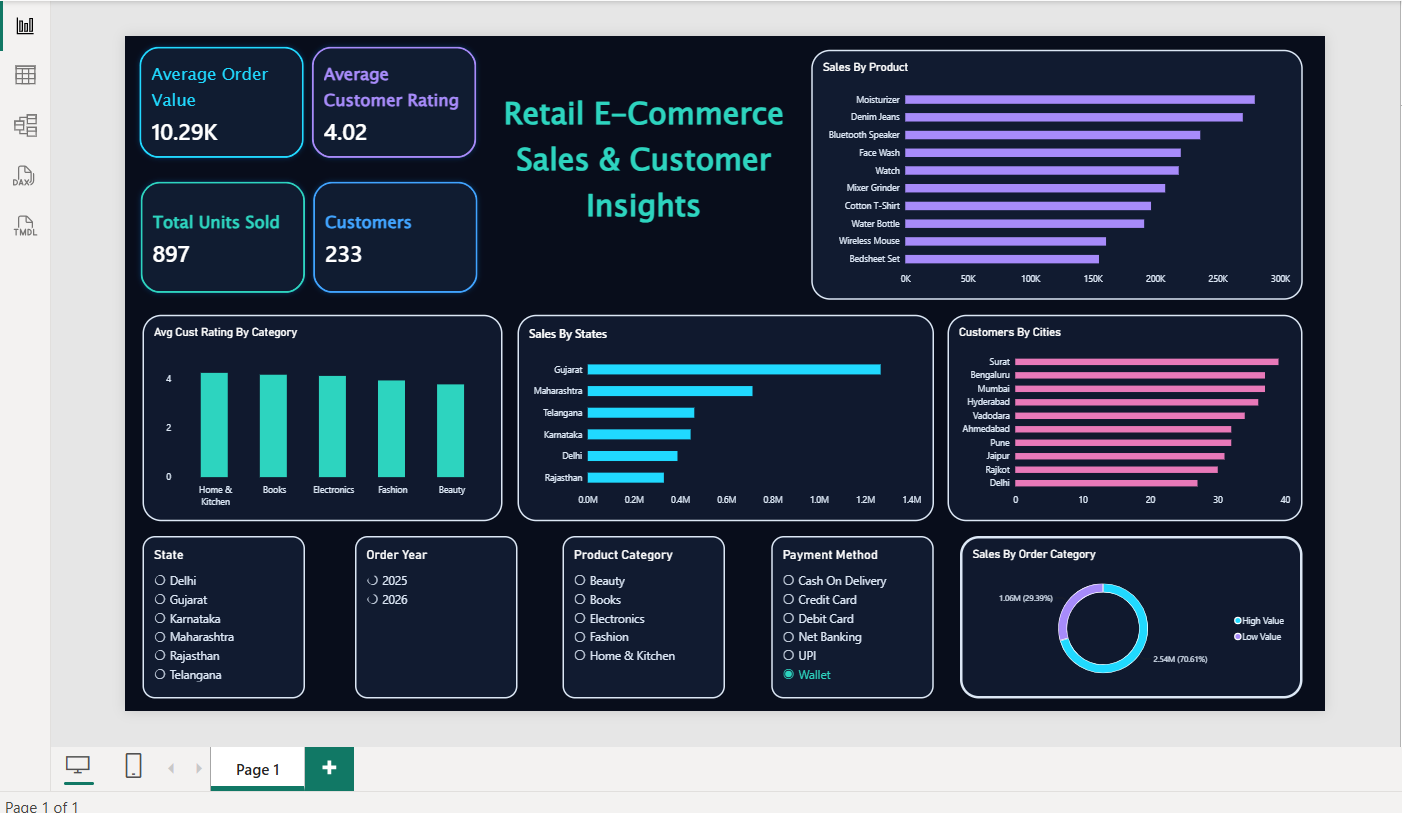

Layout of this report page (visuals, bound fields, positions):
{"tool":"powerbi","page":{"name":"Page 1","canvas":[1920,1080],"ordinal":0},"visuals":[{"type":"cardVisual","title":"Average Order VAlue","fields":{"Data":["RetailData.Average Order Value"]},"box":[12,6,285,200],"z":0},{"type":"cardVisual","fields":{"Data":["RetailData.Average Customer Rating"]},"box":[288,6,285,200],"z":1000},{"type":"cardVisual","fields":{"Data":["RetailData.Total Units Sold"]},"box":[14,222,285,200],"z":1001},{"type":"cardVisual","fields":{"Data":["RetailData.Customers"]},"box":[290,222,285,200],"z":1002},{"type":"clusteredBarChart","title":"Sales By States","fields":{"Category":["RetailData.State"],"Y":["Sum(RetailData.Sales_Amount)"]},"box":[628,446,666,330],"z":1004},{"type":"clusteredBarChart","title":"Sales By Product","fields":{"Category":["RetailData.Product"],"Y":["Sum(RetailData.Sales_Amount)"]},"box":[1098,22,786,400],"z":1005},{"type":"barChart","title":"Customers By Cities","fields":{"Category":["RetailData.City"],"Y":["Count(RetailData.Customer_ID)"]},"box":[1316,446,568,330],"z":1006},{"type":"clusteredColumnChart","title":"Avg Cust Rating By Category","fields":{"Category":["RetailData.Product_Category"],"Y":["Avg(RetailData.Customer_Rating)"]},"box":[28,446,576,330],"z":1007},{"type":"listSlicer","fields":{"Values":["RetailData.State"]},"box":[28,800,260,260],"z":1008},{"type":"listSlicer","fields":{"Values":["RetailData.Order Year"]},"box":[368,800,260,260],"z":1009},{"type":"listSlicer","title":"Product Category","fields":{"Values":["RetailData.Product_Category"]},"box":[700,800,260,260],"z":1010},{"type":"listSlicer","title":"Payment Method","fields":{"Values":["RetailData.Payment_Method"]},"box":[1034,800,260,260],"z":1011},{"type":"donutChart","title":"Sales By Order Category","fields":{"Category":["RetailData.Order Category"],"Y":["Sum(RetailData.Sales_Amount)"]},"box":[1336,800,548,260],"z":1012},{"type":"textbox","box":[576,88,508,234],"z":1013}]}

Visuals, with their boxes on the page's 1920x1080 design canvas (x1, y1, x2, y2). These are canvas units, not pixel positions in the 1402x813 screenshot, which may show the page scaled, cropped or inside an application window:
"Average Order VAlue" cardVisual: <bbox>12, 6, 297, 206</bbox>
cardVisual - RetailData.Average Customer Rating: <bbox>288, 6, 573, 206</bbox>
cardVisual - RetailData.Total Units Sold: <bbox>14, 222, 299, 422</bbox>
cardVisual - RetailData.Customers: <bbox>290, 222, 575, 422</bbox>
"Sales By States" clusteredBarChart: <bbox>628, 446, 1294, 776</bbox>
"Sales By Product" clusteredBarChart: <bbox>1098, 22, 1884, 422</bbox>
"Customers By Cities" barChart: <bbox>1316, 446, 1884, 776</bbox>
"Avg Cust Rating By Category" clusteredColumnChart: <bbox>28, 446, 604, 776</bbox>
listSlicer - RetailData.State: <bbox>28, 800, 288, 1060</bbox>
listSlicer - RetailData.Order Year: <bbox>368, 800, 628, 1060</bbox>
"Product Category" listSlicer: <bbox>700, 800, 960, 1060</bbox>
"Payment Method" listSlicer: <bbox>1034, 800, 1294, 1060</bbox>
"Sales By Order Category" donutChart: <bbox>1336, 800, 1884, 1060</bbox>
textbox: <bbox>576, 88, 1084, 322</bbox>
